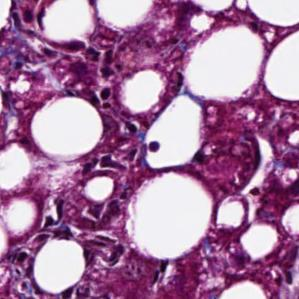inflammation: (49, 38, 121, 100), (73, 225, 131, 266), (79, 149, 126, 177)
